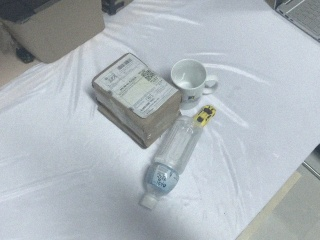bottle: (140, 106, 202, 210)
box: (92, 51, 182, 149), (1, 1, 104, 64)
cup: (170, 58, 210, 118)
toy_car: (192, 105, 217, 128)
